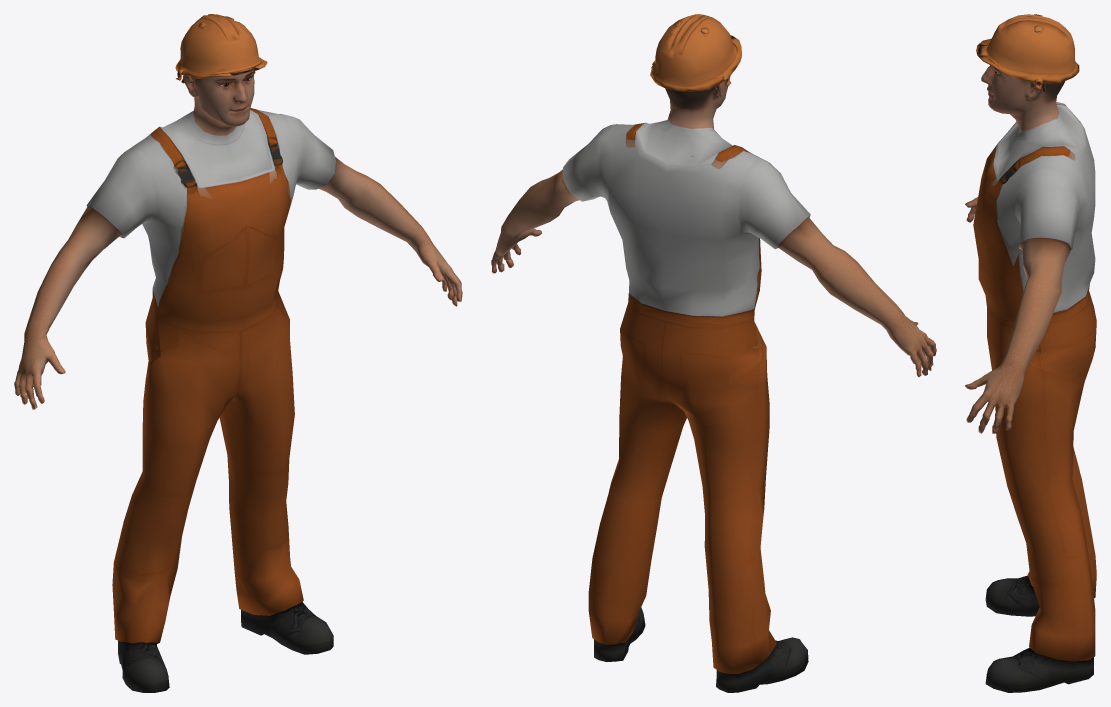
File: selected.fbx
The picture shows the model from 3 angles, left to right: view 1: azimuth 30°, elevation 25°; view 2: azimuth 150°, elevation 25°; view 3: azimuth 270°, elevation 25°; orthographic projection.
Parts seen in each view (by area): view 1: tripo_node_a06196fe-2cd2-47eb-8ef4-9f72d7fc095c; view 2: tripo_node_a06196fe-2cd2-47eb-8ef4-9f72d7fc095c; view 3: tripo_node_a06196fe-2cd2-47eb-8ef4-9f72d7fc095c.
Boxes of the visible parts, box(x1,y1,x2,y2) form: tripo_node_a06196fe-2cd2-47eb-8ef4-9f72d7fc095c: box(14, 14, 462, 692); tripo_node_a06196fe-2cd2-47eb-8ef4-9f72d7fc095c: box(491, 14, 936, 692); tripo_node_a06196fe-2cd2-47eb-8ef4-9f72d7fc095c: box(965, 14, 1096, 692).
Bounding box in the file's own units: 70.9 × 99.8 × 18.95.
1 material, 1 textured.
